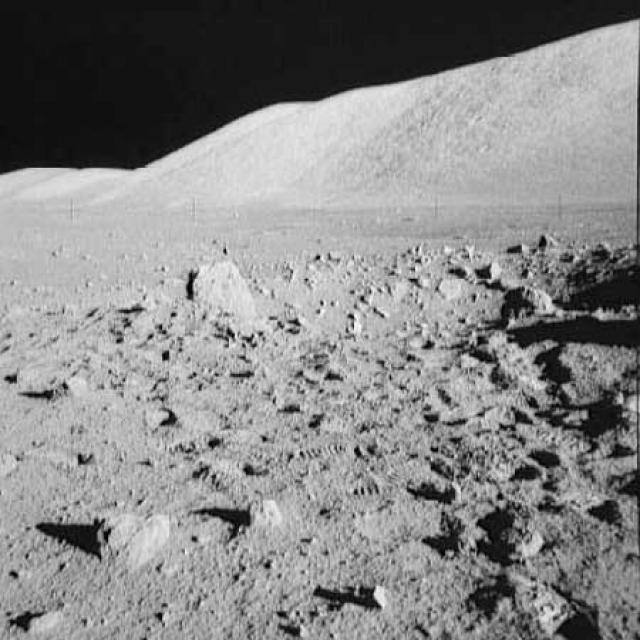rock: (178, 254, 264, 318), (90, 499, 172, 565), (435, 503, 490, 550), (509, 278, 563, 323), (242, 490, 296, 531), (16, 602, 64, 634), (504, 523, 544, 561), (54, 368, 96, 400), (439, 277, 469, 304), (452, 348, 482, 371), (534, 229, 561, 250)
